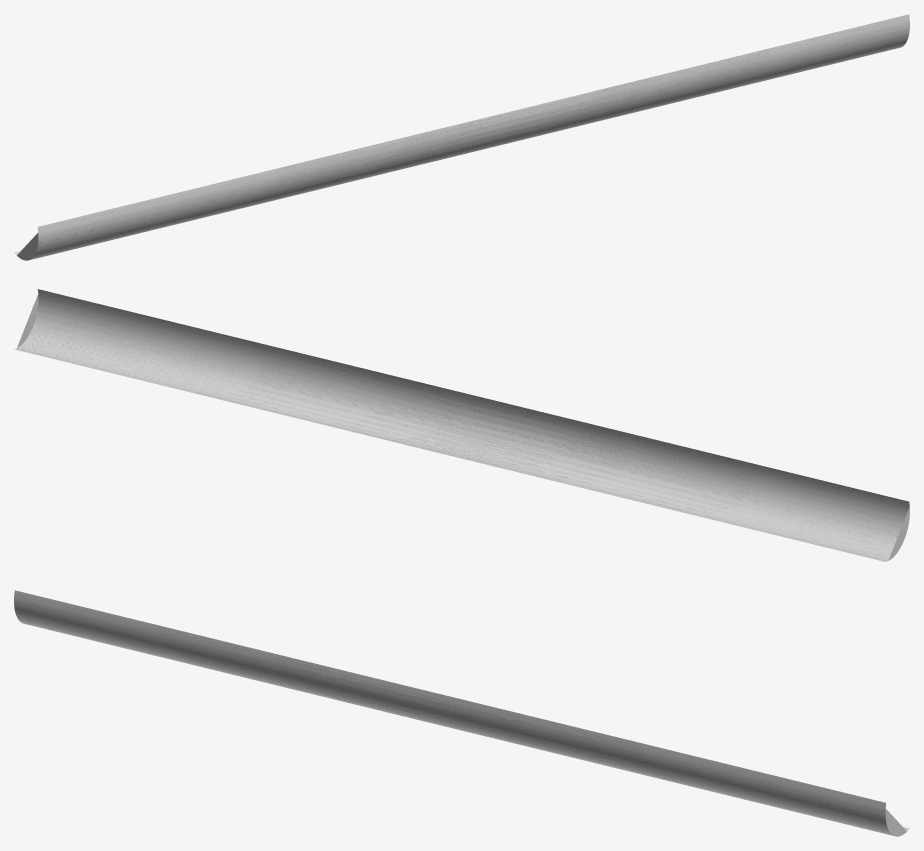
The model's file is original-34.obj.
The picture shows the model from 3 angles, top to bottom: view 1: azimuth 30°, elevation 25°; view 2: azimuth 150°, elevation 25°; view 3: azimuth 330°, elevation 25°; orthographic projection.
Parts seen in each view (by area): view 1: 3dw.547ad62bd93988fff0117851f0671fde/Model/mesh1/mesh1-geometry/; view 2: 3dw.547ad62bd93988fff0117851f0671fde/Model/mesh1/mesh1-geometry/; view 3: 3dw.547ad62bd93988fff0117851f0671fde/Model/mesh1/mesh1-geometry/.
Part boxes in pixels (x1,y1,x2,y2): 3dw.547ad62bd93988fff0117851f0671fde/Model/mesh1/mesh1-geometry/: [14, 14, 909, 260]; 3dw.547ad62bd93988fff0117851f0671fde/Model/mesh1/mesh1-geometry/: [14, 289, 909, 561]; 3dw.547ad62bd93988fff0117851f0671fde/Model/mesh1/mesh1-geometry/: [14, 590, 909, 836].
Bounding box in the file's own units: 0.6799 × 0.0331 × 0.0331.
